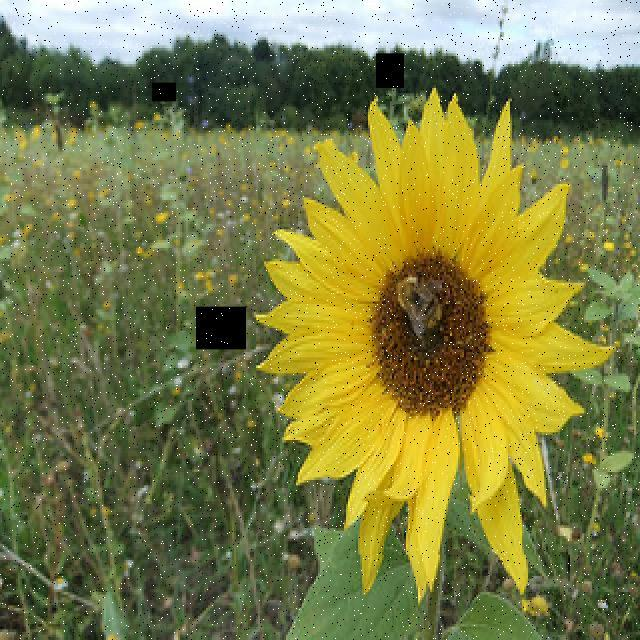sunflower: (258, 101, 578, 602), (198, 308, 248, 351), (376, 54, 404, 88), (154, 85, 178, 104)
